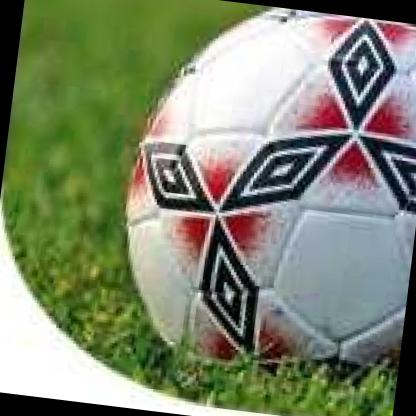ball: (104, 0, 416, 388)
